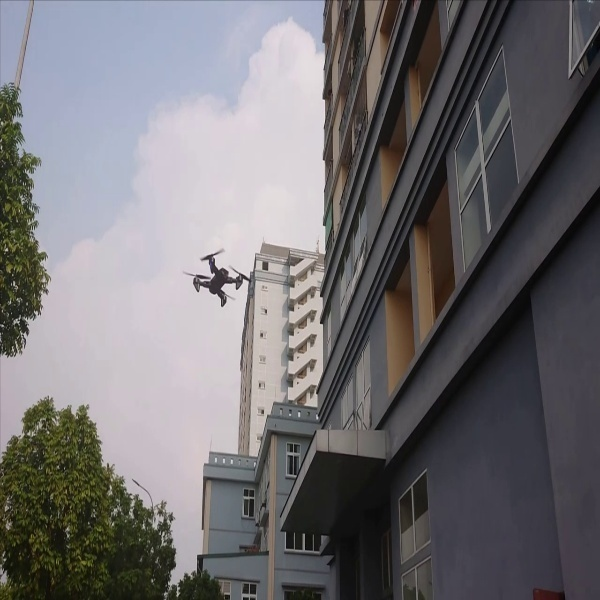drone: (174, 235, 256, 308)
